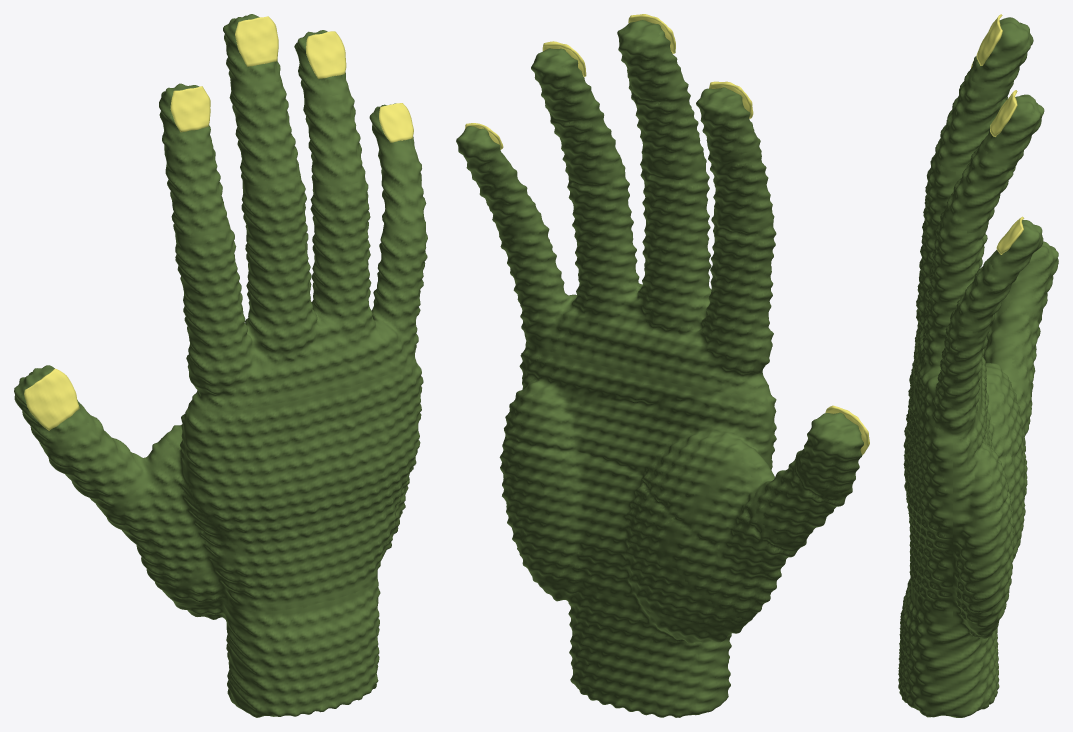
Rendered from family-04.glb.
3 renders of one model, left to right at view 1: azimuth 30°, elevation 25°; view 2: azimuth 150°, elevation 25°; view 3: azimuth 270°, elevation 25°, orthographic. The views are drawn at different scales.
Visible parts, largest first — view 1: knuckles__knuckles_sculpt, back_of_hand__back_of_hand_sculpt, middle_sections__middle_sections_sculpt, wrist__wrist_sculpt, fingertips__fingertips_sculpt, palm__palm_sculpt, nails__thumb_claw, nails__middle_claw, nails__ring_claw, nails__index_claw, nails__pinky_claw; view 2: knuckles__knuckles_sculpt, palm__palm_sculpt, middle_sections__middle_sections_sculpt, wrist__wrist_sculpt, fingertips__fingertips_sculpt; view 3: palm__palm_sculpt, knuckles__knuckles_sculpt, middle_sections__middle_sections_sculpt, wrist__wrist_sculpt, back_of_hand__back_of_hand_sculpt, fingertips__fingertips_sculpt, nails__middle_claw, nails__ring_claw, nails__pinky_claw.
Boxes of the visible parts, x1,y1,x2,y2 form: knuckles__knuckles_sculpt: (101, 174, 427, 593); back_of_hand__back_of_hand_sculpt: (184, 356, 423, 611); middle_sections__middle_sections_sculpt: (44, 79, 426, 512); wrist__wrist_sculpt: (174, 578, 380, 717); fingertips__fingertips_sculpt: (14, 14, 417, 451); palm__palm_sculpt: (164, 401, 409, 604); nails__thumb_claw: (24, 368, 79, 430); nails__middle_claw: (235, 16, 278, 66); nails__ring_claw: (306, 31, 346, 78); nails__index_claw: (170, 86, 210, 132); nails__pinky_claw: (379, 103, 413, 142); knuckles__knuckles_sculpt: (496, 152, 806, 619); palm__palm_sculpt: (499, 340, 771, 629); middle_sections__middle_sections_sculpt: (472, 74, 852, 545); wrist__wrist_sculpt: (532, 576, 743, 717); fingertips__fingertips_sculpt: (456, 20, 863, 494); palm__palm_sculpt: (951, 356, 1025, 629); knuckles__knuckles_sculpt: (913, 155, 1032, 500); middle_sections__middle_sections_sculpt: (935, 69, 1041, 393); wrist__wrist_sculpt: (898, 579, 999, 717); back_of_hand__back_of_hand_sculpt: (903, 358, 952, 617); fingertips__fingertips_sculpt: (970, 17, 1058, 314); nails__middle_claw: (976, 14, 1002, 65); nails__ring_claw: (990, 90, 1017, 136); nails__pinky_claw: (996, 216, 1024, 254).
Bounding box in the file's own units: 0.132 × 0.2178 × 0.0482.
2 materials, 1 textured.
